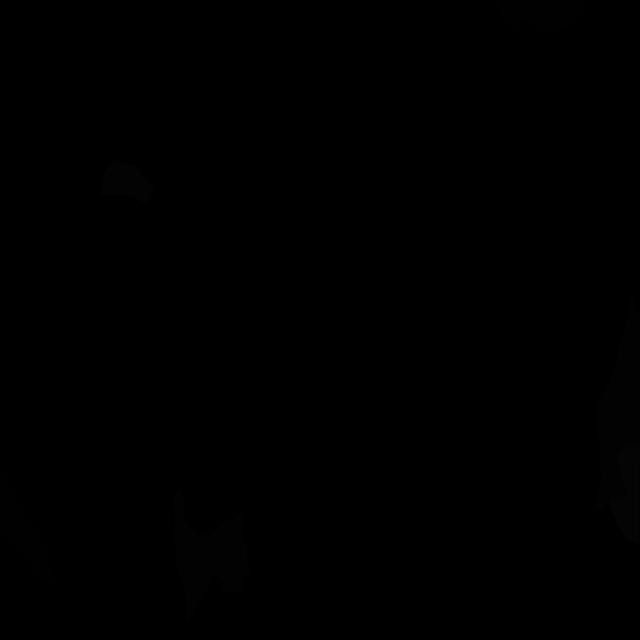cardboard: (592, 295, 640, 511), (173, 488, 250, 622)
metal: (101, 160, 154, 205)
rigid_plastic: (0, 469, 56, 583)
soft_plastic: (609, 441, 640, 544)
